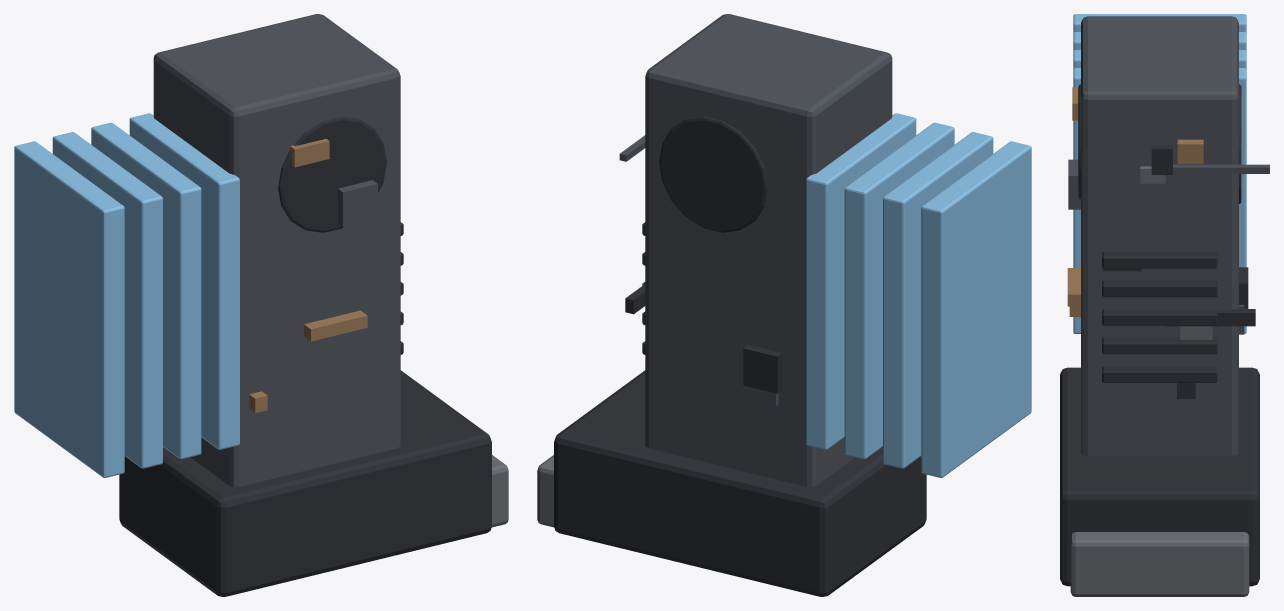
File: module_thruster_standard.fbx
3 views of the same model, side by side, from view 1: azimuth 30°, elevation 25°; view 2: azimuth 150°, elevation 25°; view 3: azimuth 270°, elevation 25° (orthographic). The views are drawn at different scales.
Parts seen in each view (by area): view 1: SM_Module_ThrusterStandard; view 2: SM_Module_ThrusterStandard; view 3: SM_Module_ThrusterStandard.
Part boxes in pixels (bbox=[...]): SM_Module_ThrusterStandard: bbox=[14, 14, 508, 596]; SM_Module_ThrusterStandard: bbox=[537, 14, 1031, 596]; SM_Module_ThrusterStandard: bbox=[1060, 14, 1269, 596].
Size of what is drawn, in the model's own units: 85.6 by 96 by 39.92.
